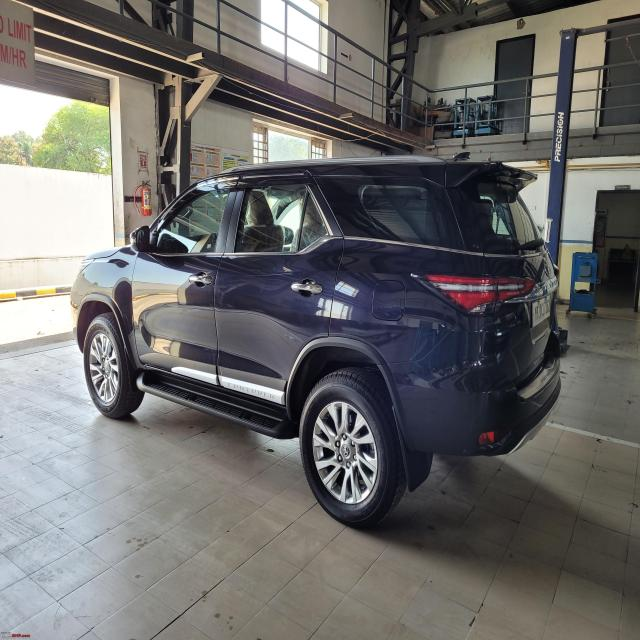light_vehicle: (69, 156, 563, 529)
